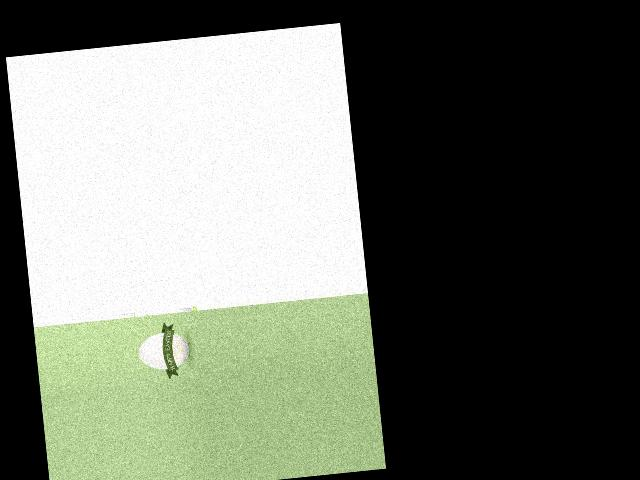egg: (136, 329, 190, 371)
